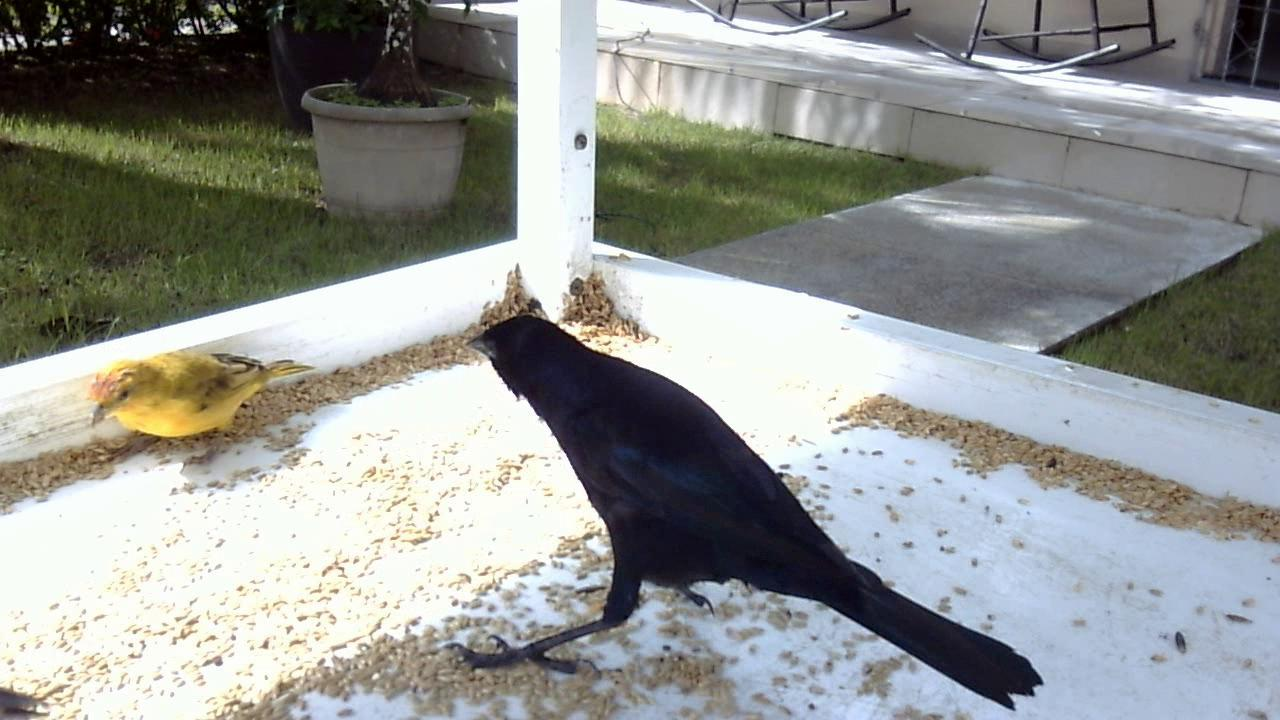canario_do_amazonas: (78, 343, 323, 458)
chupim: (433, 285, 1059, 712)
